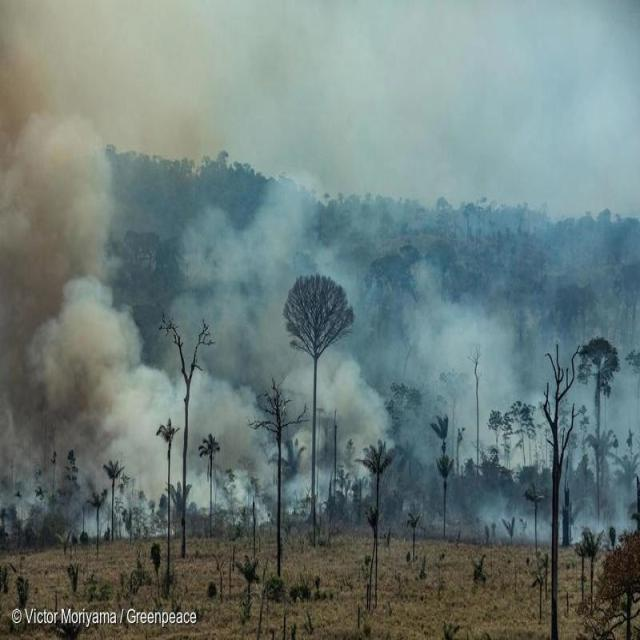Smoke: (1, 1, 638, 545)
